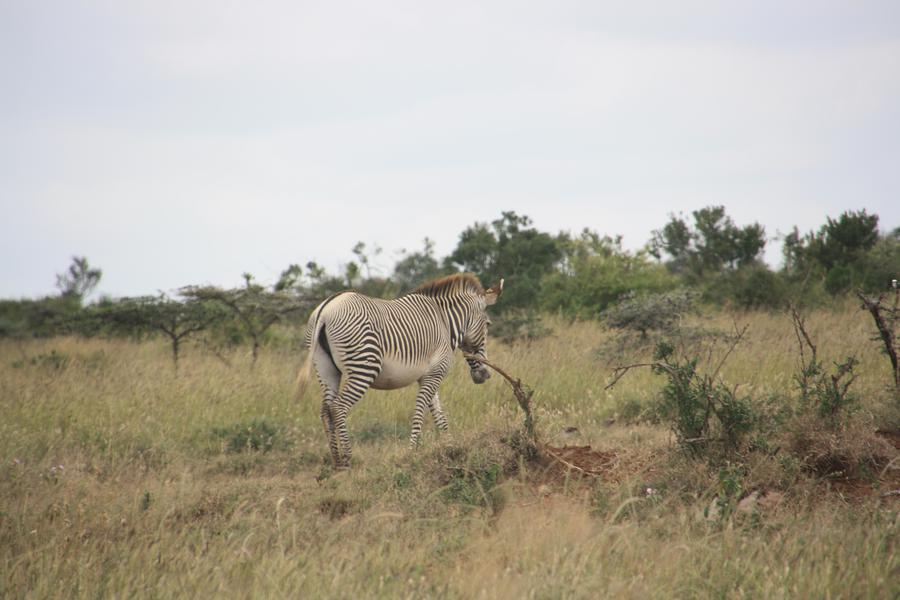zebra_grevys: (312, 291, 452, 359)
